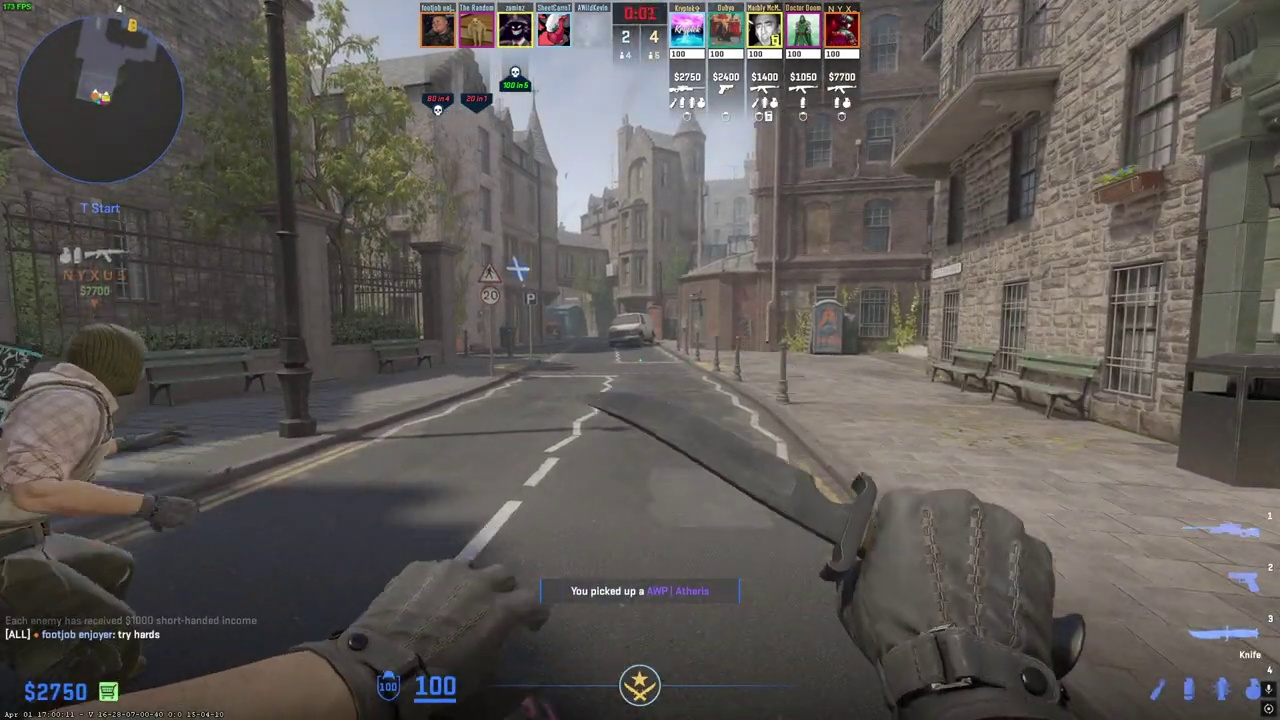Terrorist: (0, 324, 162, 691)
